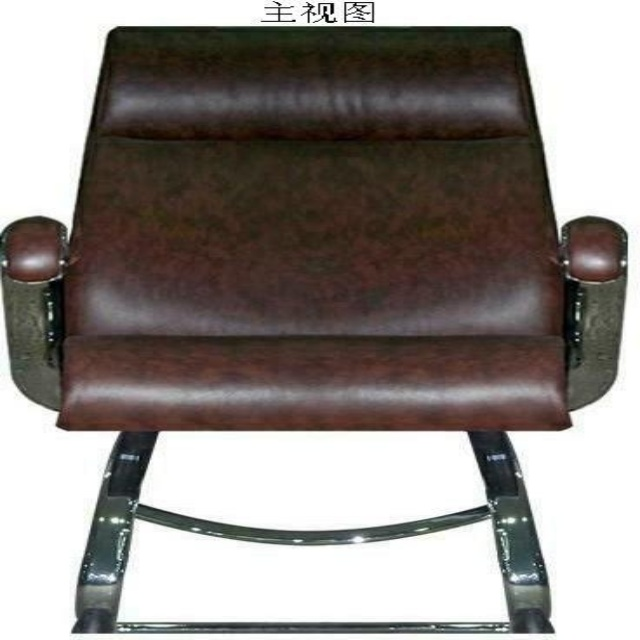obstacle: (3, 27, 624, 639)
